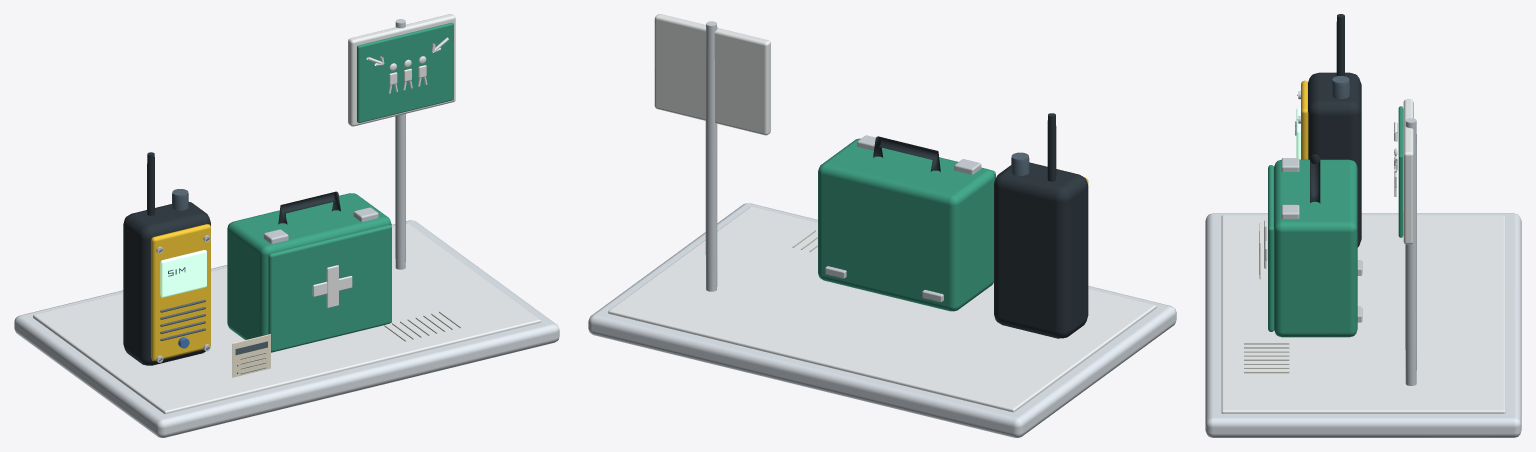
File: emergency.glb
3 views of the same model, side by side, from view 1: azimuth 30°, elevation 25°; view 2: azimuth 150°, elevation 25°; view 3: azimuth 270°, elevation 25° (orthographic). The views are drawn at different scales.
Visible parts, largest first — view 1: emergency; view 2: emergency; view 3: emergency.
Boxes of the visible parts, <box> form: emergency: <box>14,14,559,437</box>; emergency: <box>588,14,1176,437</box>; emergency: <box>1205,14,1521,437</box>.
Bounding box in the file's own units: 0.77 × 0.489 × 0.49.
